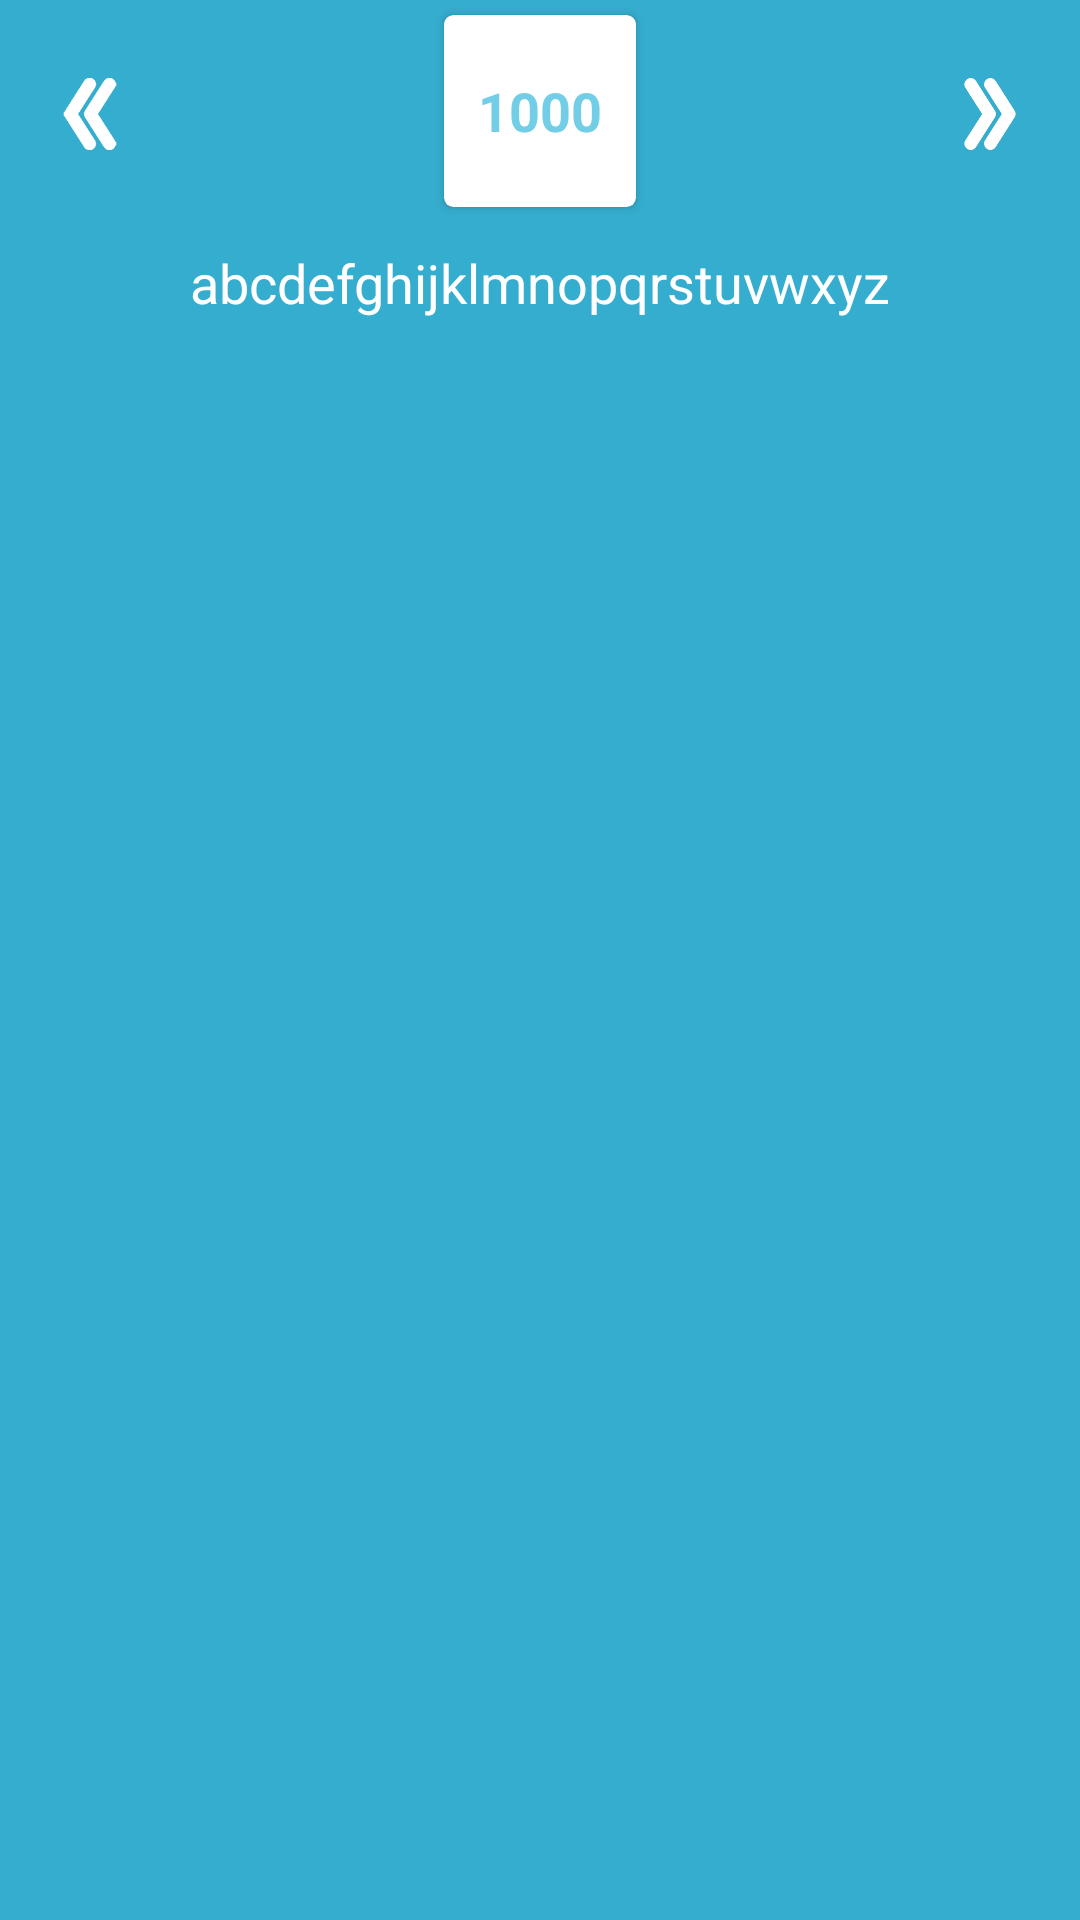

Locate icon controls on the screen. Image size 1080*1920, boxes as (x1, y1, x2, y2).
backward: (63, 78, 117, 150)
forward: (964, 78, 1016, 150)
